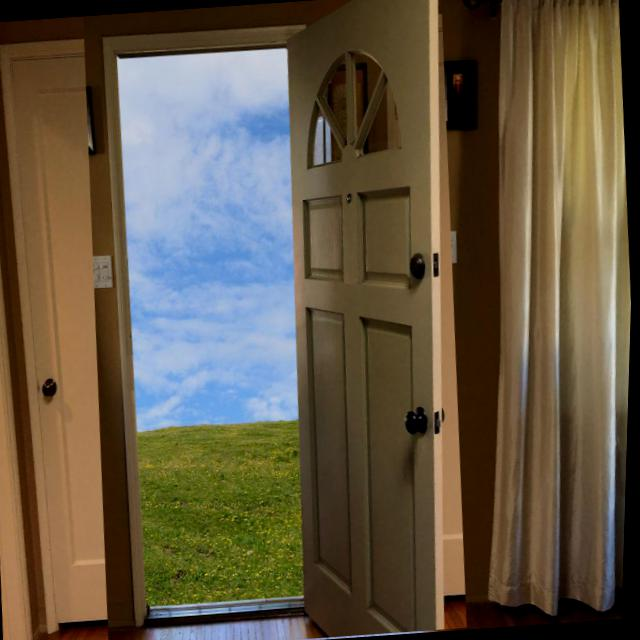open: (68, 0, 487, 639)
